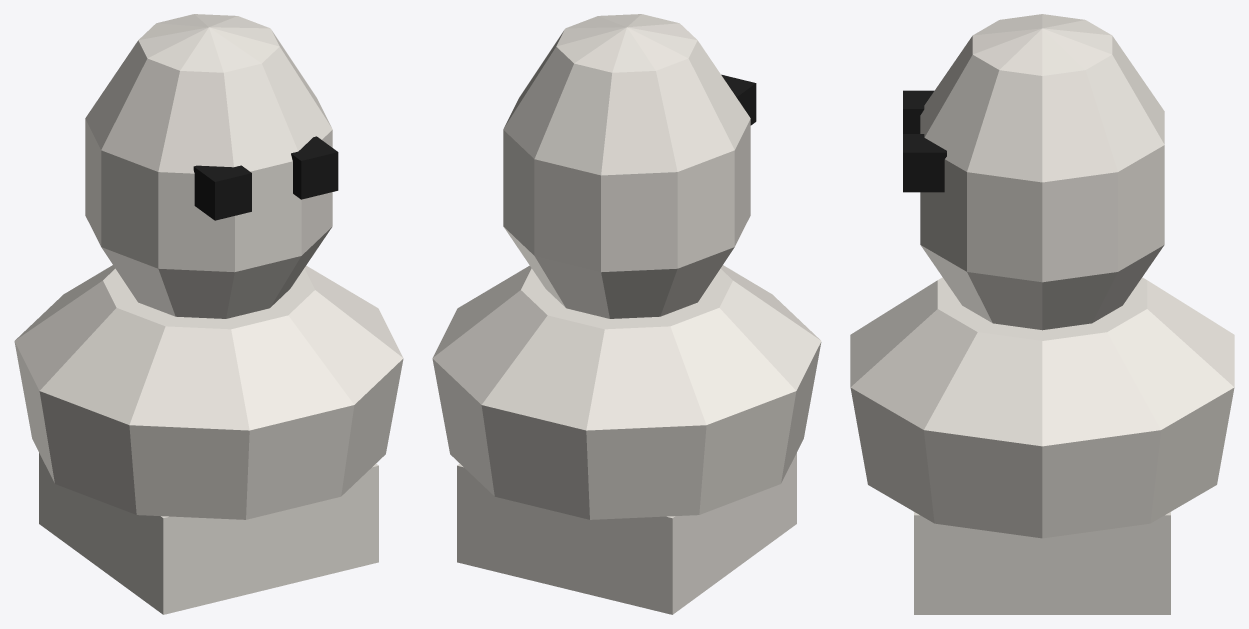
File: loot_bust.glb
3 views of the same model, side by side, from view 1: azimuth 30°, elevation 25°; view 2: azimuth 150°, elevation 25°; view 3: azimuth 270°, elevation 25° (orthographic). The views are drawn at different scales.
Visible parts, largest first — view 1: item; view 2: item; view 3: item.
Part boxes in pixels (x1,y1,x2,y2): item: (14,14,403,614); item: (432,14,821,614); item: (850,14,1234,614).
Size of the model in its own units: 0.11 by 0.16 by 0.1046.
Materials: 1 (1 with a texture image).
